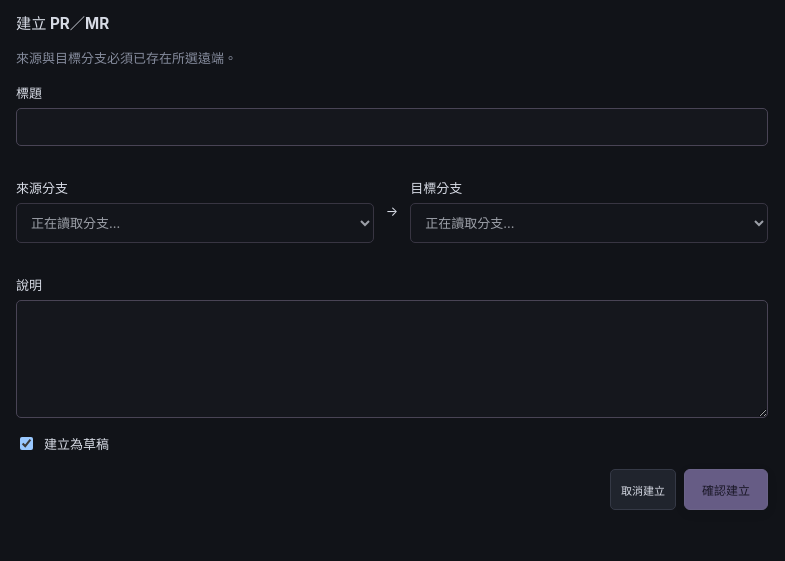
Test case: 讀取失敗送出 toast 事件，保留標題並可重試
The image size is (785, 561).
Type "保留草稿" into the field named "PR／MR 標題" at coordinates (392, 127), box [16, 108, 768, 146]
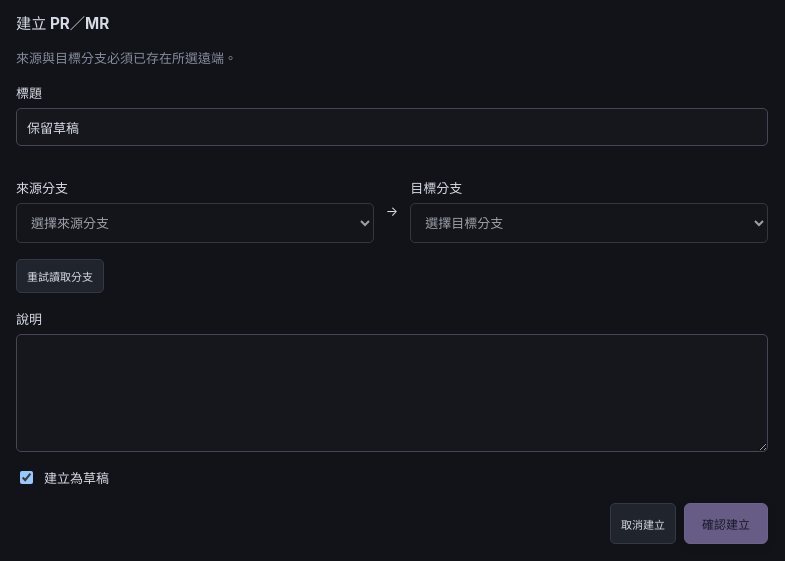
Expected: the button "確認建立" is disabled, [684, 503, 768, 544]
Now the button "重試讀取分支" is shown
Click the button "重試讀取分支" at coordinates (60, 276), box [16, 259, 104, 293]
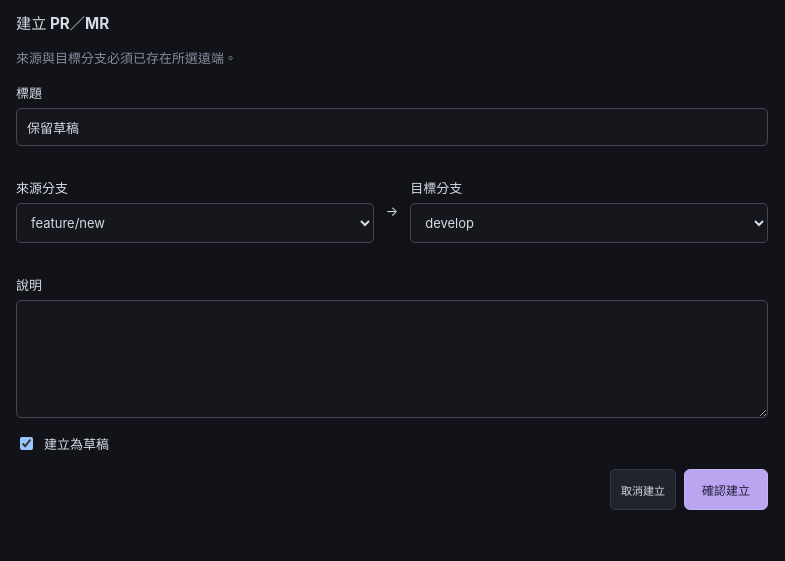
Now the dropdown named "PR／MR 目標分支" shows "develop", box [410, 203, 768, 243]
